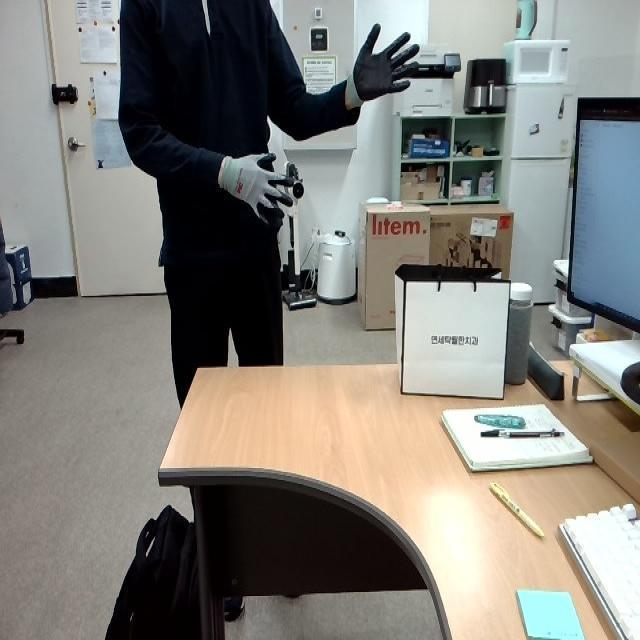gloved_hand: (344, 16, 425, 110), (214, 149, 293, 226)
